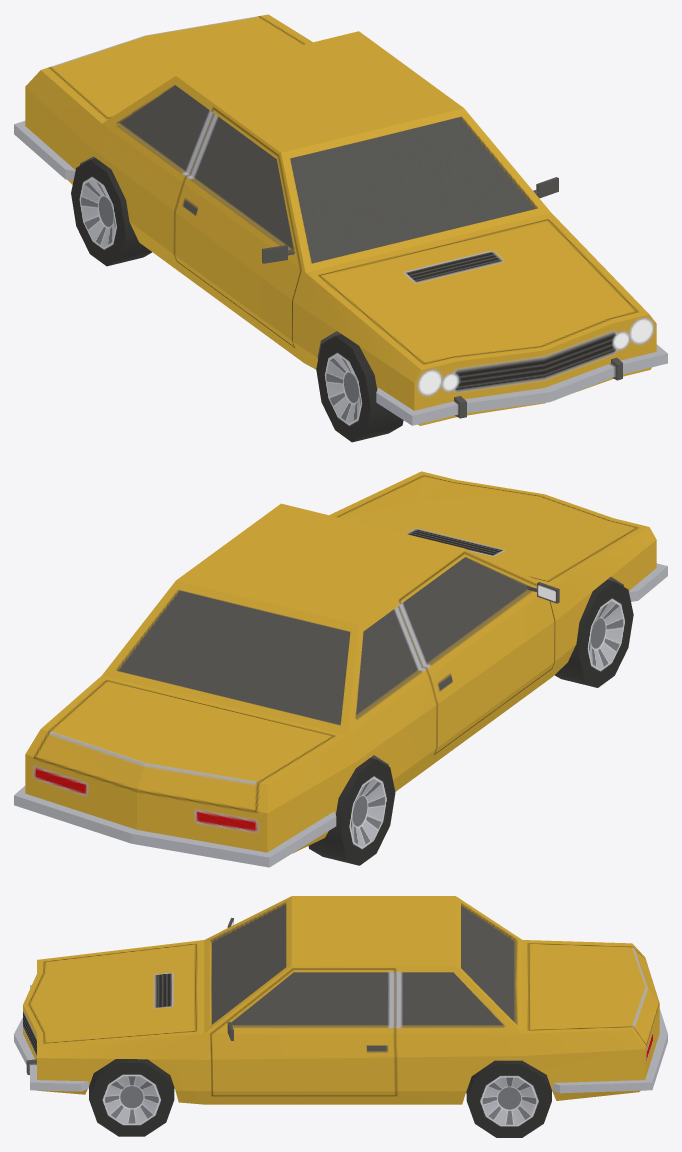
The model's file is Car.glb.
3 views of the same model, one above another, from view 1: azimuth 30°, elevation 25°; view 2: azimuth 150°, elevation 25°; view 3: azimuth 270°, elevation 25° (orthographic). The views are drawn at different scales.
Visible parts, largest first — view 1: Object008; view 2: Object008; view 3: Object008.
Boxes of the visible parts, x1=… form: Object008: x1=14, y1=14, x2=667, y2=442; Object008: x1=14, y1=471, x2=667, y2=867; Object008: x1=14, y1=896, x2=667, y2=1137.
Size of the model in its own units: 1.01 by 0.6466 by 2.47.
5 materials, 5 textured.
